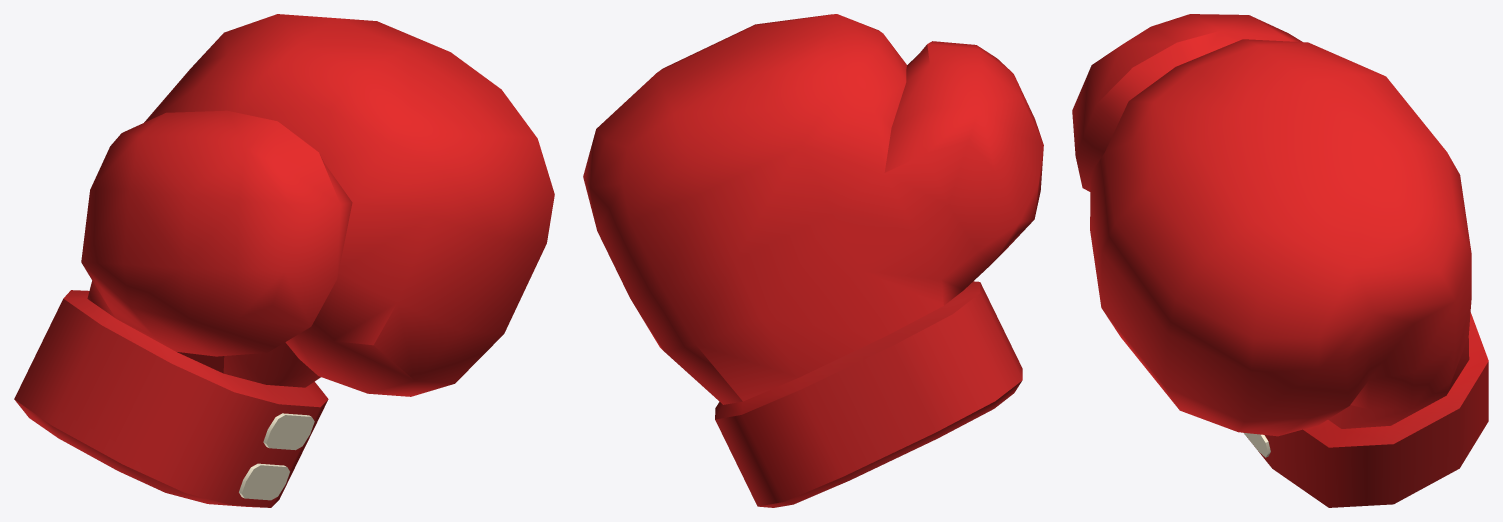
The picture shows the model from 3 angles, left to right: view 1: azimuth 30°, elevation 25°; view 2: azimuth 150°, elevation 25°; view 3: azimuth 270°, elevation 25°; orthographic projection. The views are drawn at different scales.
Parts seen in each view (by area): view 1: model_0.017; view 2: model_0.017; view 3: model_0.017.
Boxes of the visible parts, x1,y1,x2,y2 form: model_0.017: (14,14,554,507); model_0.017: (583,14,1043,507); model_0.017: (1072,14,1488,507).
Size of the model in its own units: 4.11 by 3.96 by 3.28.
